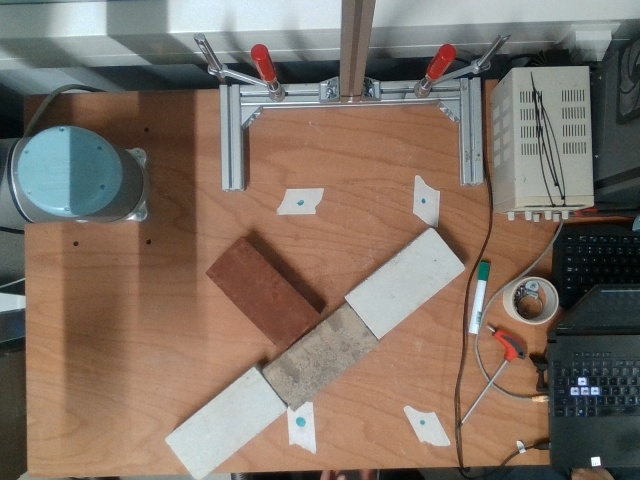brick: (164, 367, 287, 479), (206, 239, 317, 351), (348, 230, 462, 338), (262, 305, 377, 411)
